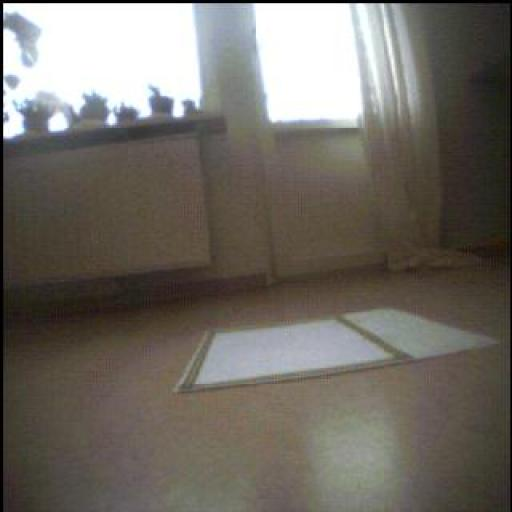Pad: (177, 310, 497, 393)
